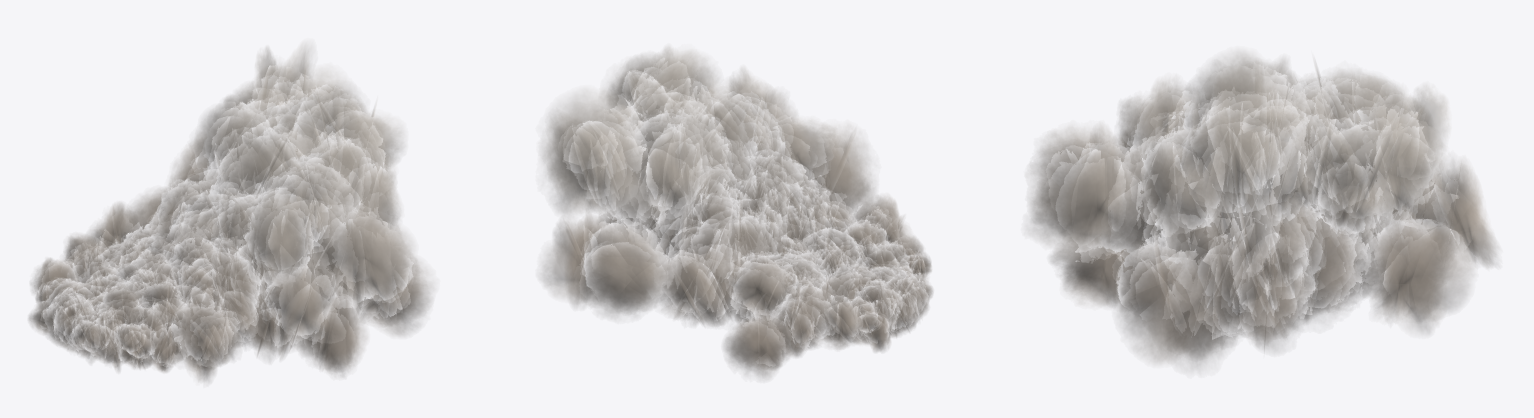
File: pyro_cloud.glb
3 views of the same model, side by side, from view 1: azimuth 30°, elevation 25°; view 2: azimuth 150°, elevation 25°; view 3: azimuth 270°, elevation 25° (orthographic). The views are drawn at different scales.
Bounding box in the file's own units: 101 × 76.56 × 102.
1 material, 1 textured.
